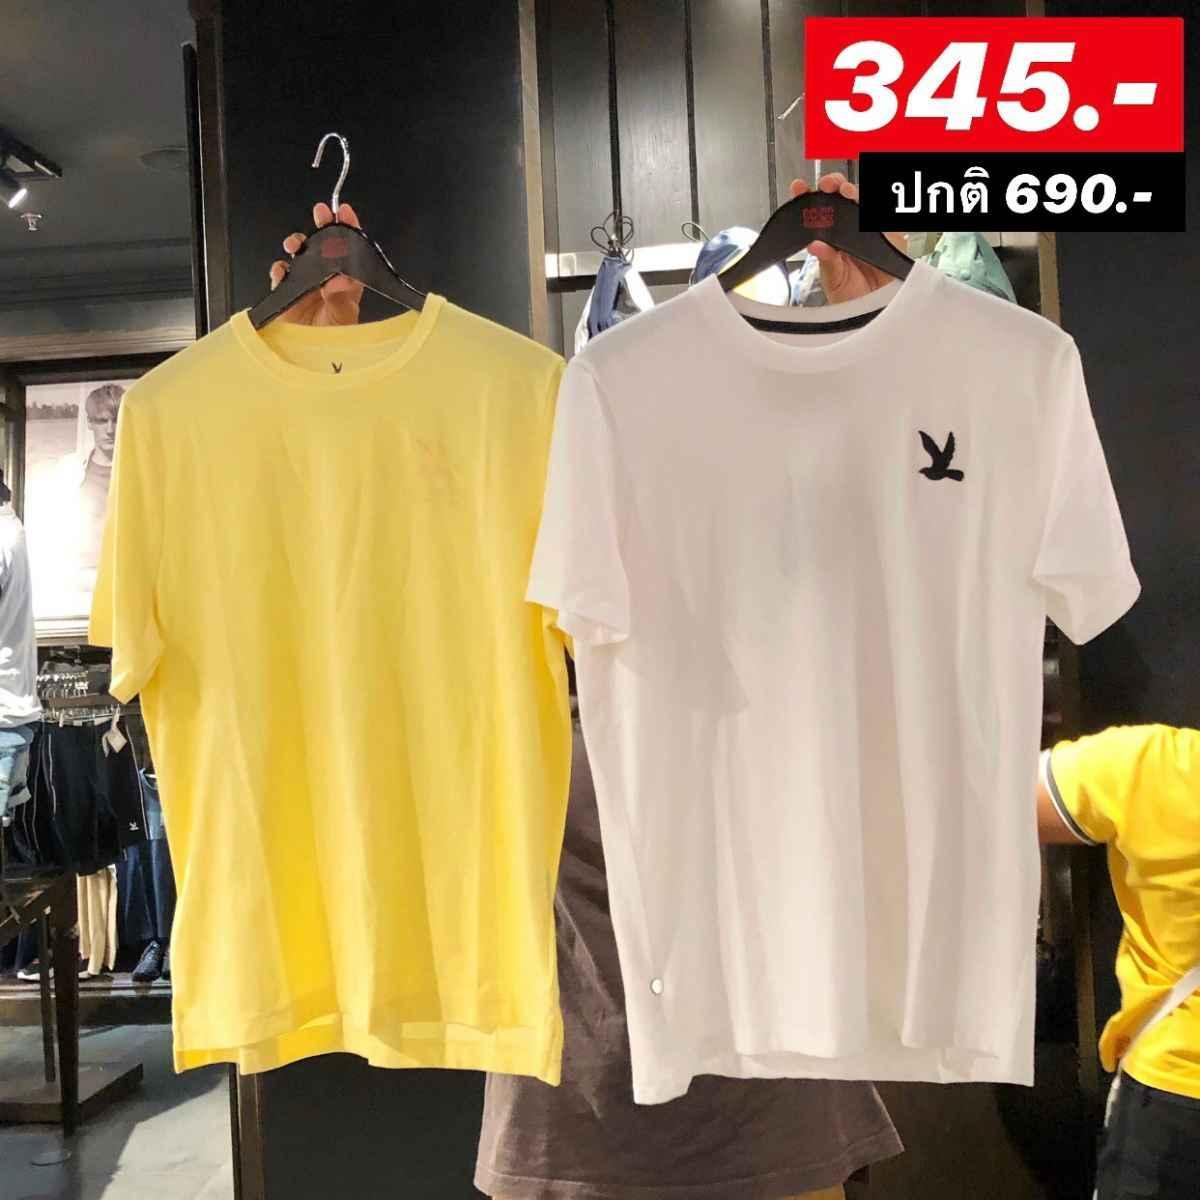Tshirt: (541, 245, 1091, 1095), (98, 288, 584, 1077)
